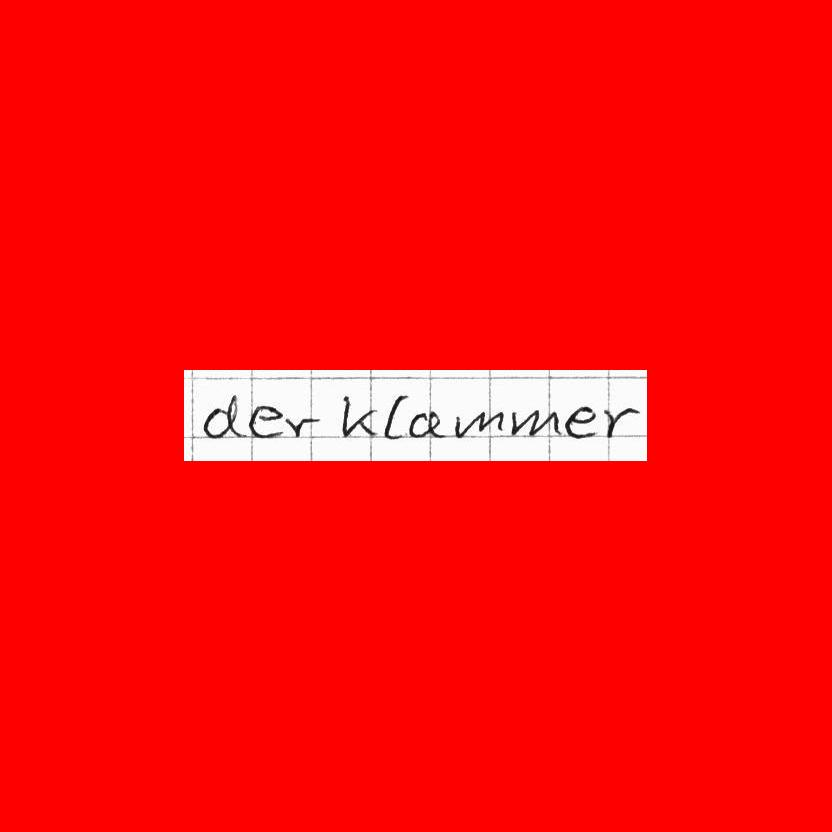Char: (198, 391, 246, 441), (339, 393, 379, 439), (511, 407, 557, 439), (454, 408, 500, 439), (248, 403, 282, 440), (602, 403, 635, 441), (383, 393, 407, 443), (565, 404, 597, 440), (407, 409, 443, 441), (283, 410, 317, 440)
